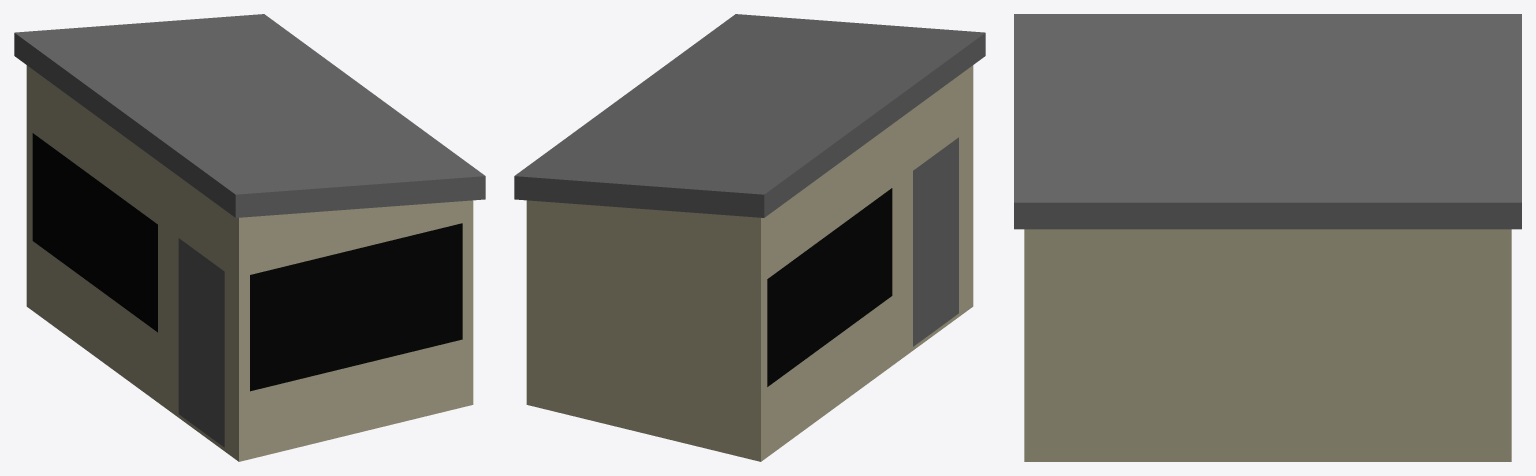
Rendered from SECURITE_ENTREE.fbx.
The picture shows the model from 3 angles, left to right: view 1: azimuth 30°, elevation 25°; view 2: azimuth 150°, elevation 25°; view 3: azimuth 270°, elevation 25°; orthographic projection. The views are drawn at different scales.
Parts seen in each view (by area): view 1: SECU; view 2: SECU; view 3: SECU.
Boxes of the visible parts, x1,y1,x2,y2 form: SECU: (14, 14, 485, 461); SECU: (514, 14, 985, 461); SECU: (1014, 14, 1521, 461).
Size of the model in its own units: 309 by 322 by 475.
